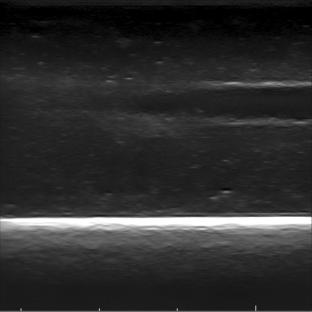vessel: (185, 79, 311, 129)
